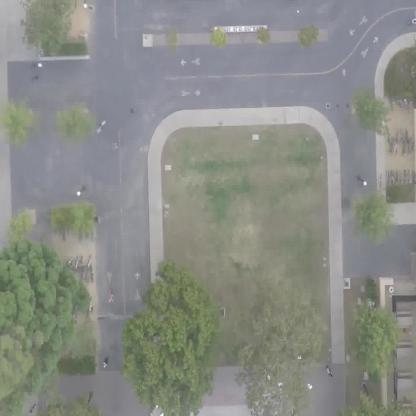Bicyclist: (92, 117, 110, 140), (99, 355, 112, 376), (105, 288, 117, 308), (405, 15, 415, 37)
Pedestrian: (321, 361, 334, 386)
